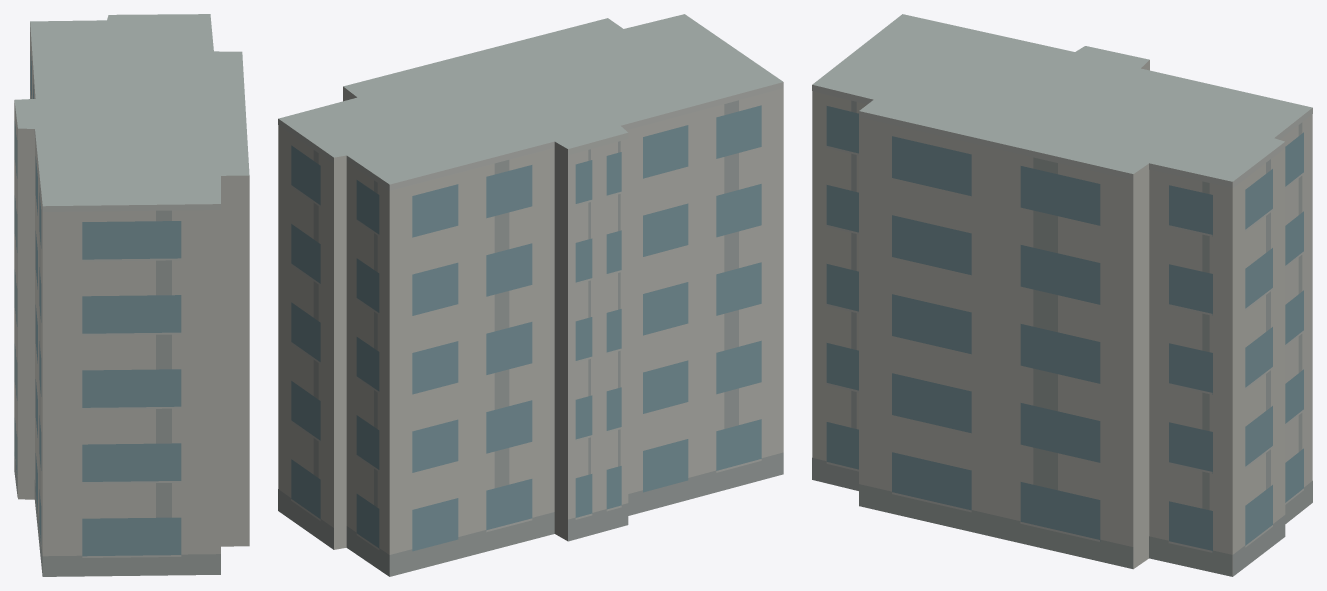
Rendered from survey-upis-32479534.glb.
3 views of the same model, side by side, from view 1: azimuth 30°, elevation 25°; view 2: azimuth 150°, elevation 25°; view 3: azimuth 270°, elevation 25° (orthographic). The views are drawn at different scales.
Visible parts, largest first — view 1: survey-upis-32479534.tmp; view 2: survey-upis-32479534.tmp; view 3: survey-upis-32479534.tmp.
Part boxes in pixels (bbox=[...]): survey-upis-32479534.tmp: bbox=[14, 14, 249, 576]; survey-upis-32479534.tmp: bbox=[278, 14, 783, 576]; survey-upis-32479534.tmp: bbox=[812, 14, 1312, 576].
Size of the model in its own units: 13.9 by 15.25 by 17.52.
